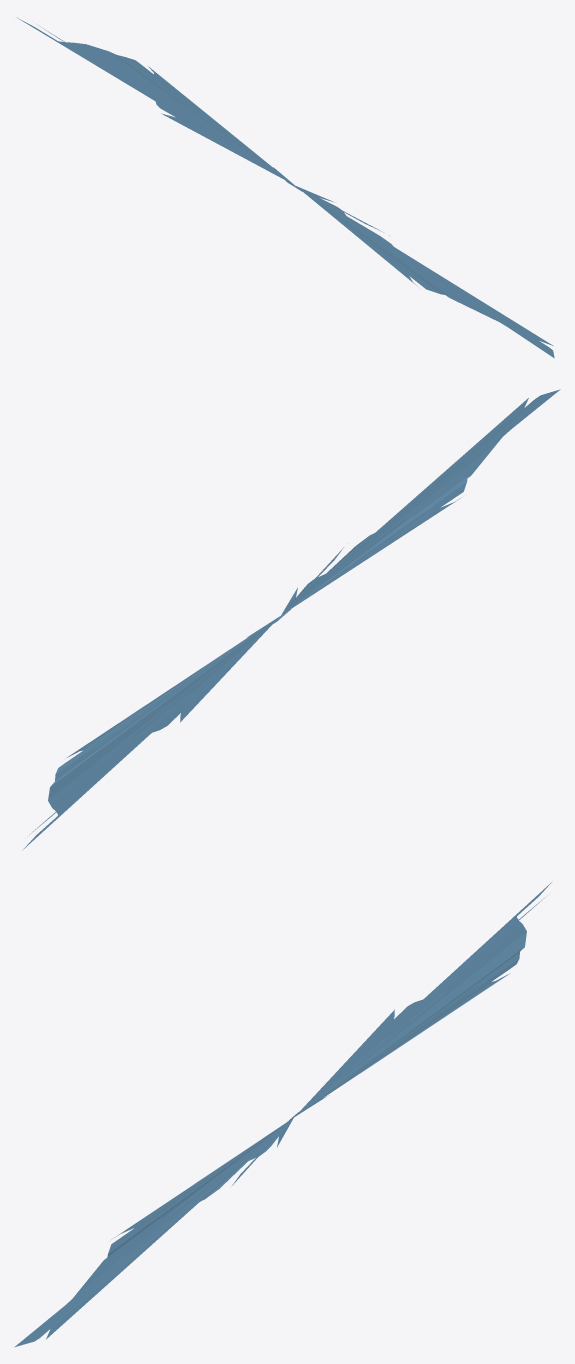
Rendered from c_1628_17815_water.glb.
3 renders of one model, top to bottom at view 1: azimuth 30°, elevation 25°; view 2: azimuth 150°, elevation 25°; view 3: azimuth 330°, elevation 25°, orthographic. The views are drawn at different scales.
Parts seen in each view (by area): view 1: geometry_0; view 2: geometry_0; view 3: geometry_0.
Boxes of the visible parts, x1,y1,x2,y2 form: geometry_0: (16,17,554,358); geometry_0: (22,389,560,850); geometry_0: (14,881,552,1347).
Bounding box in the file's own units: 238 × 6.97 × 2899.
